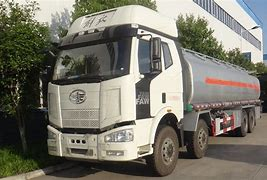oil truck: (38, 5, 264, 175)
